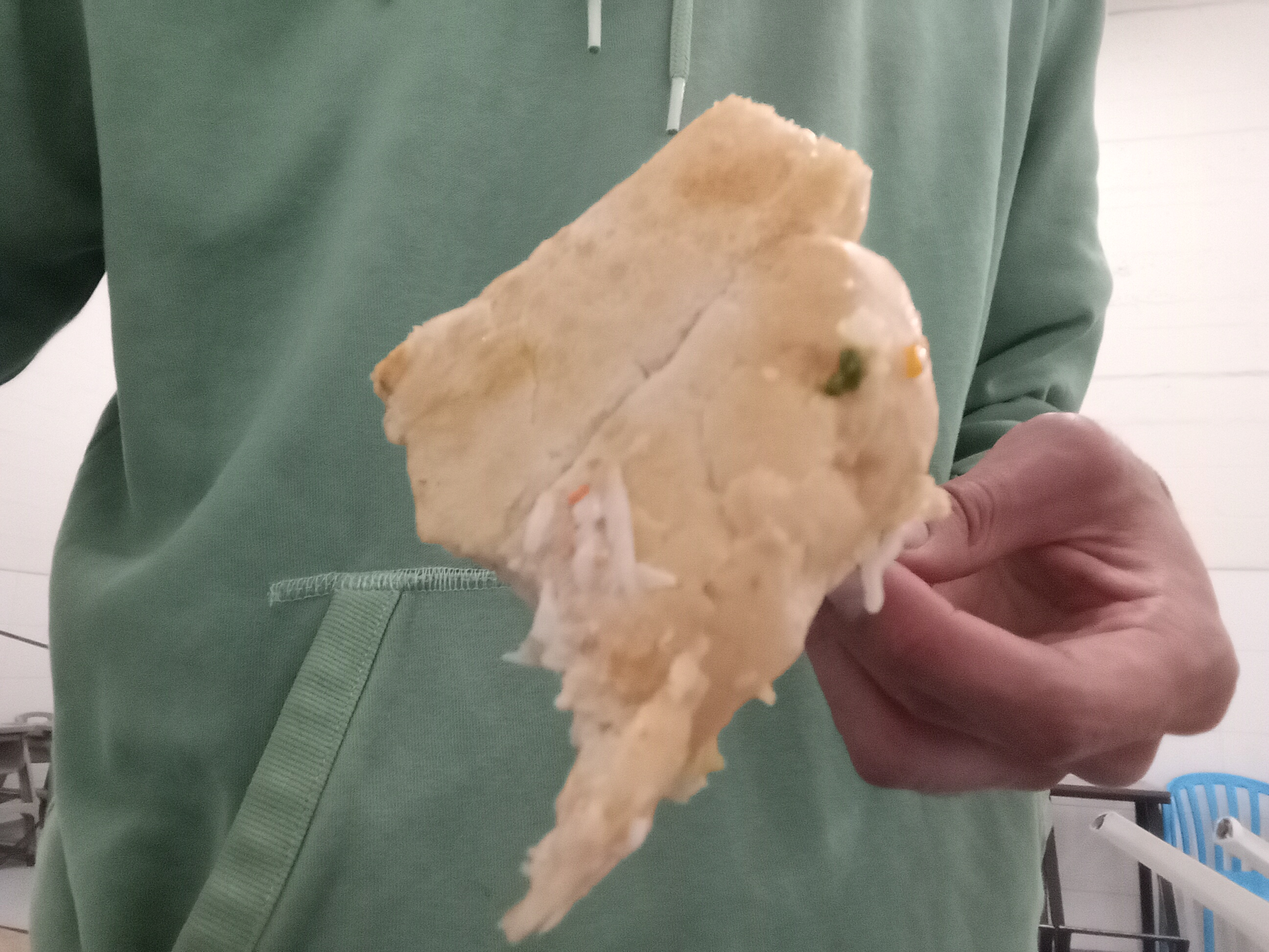Organico: (373, 96, 942, 944)
